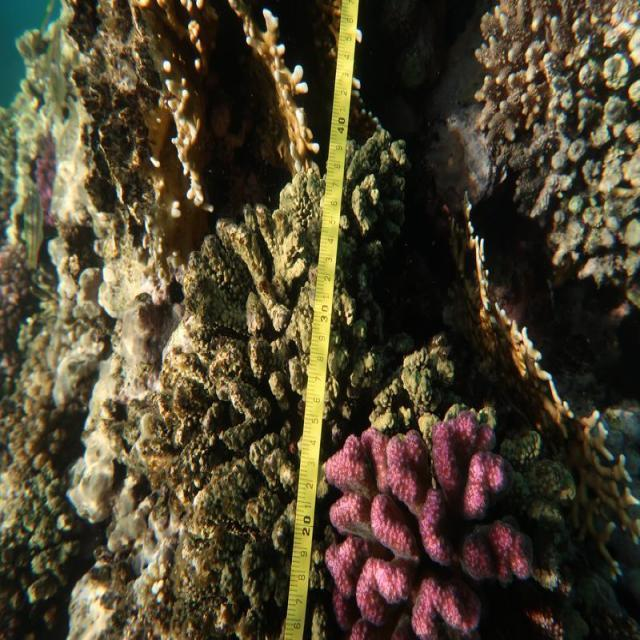Healthy Coral: (319, 408, 534, 640)
